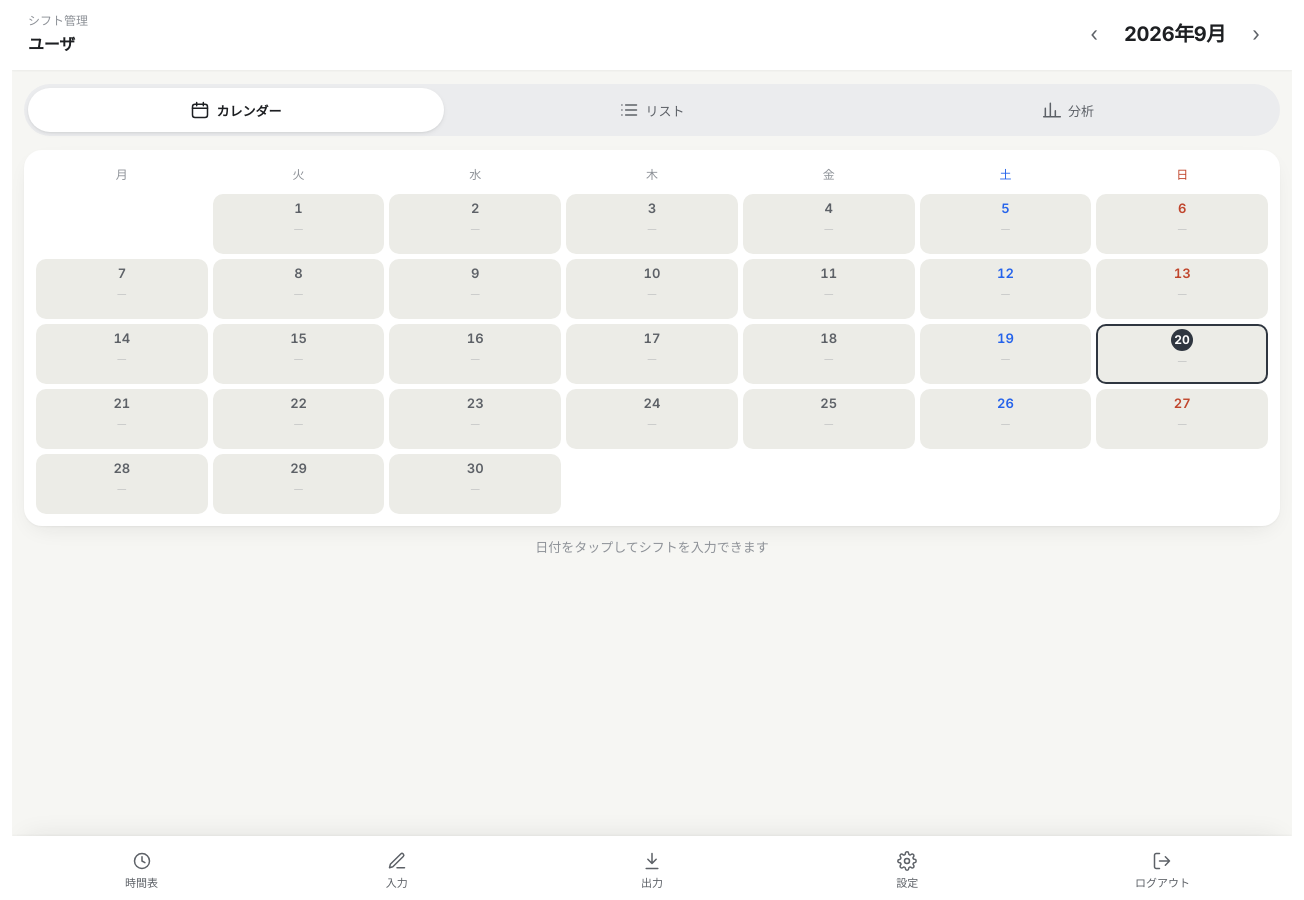
App コンポーネント › 一括保存が失敗した場合にUIがロールバックされる
Click the button with aria-label "入力モード開始": (397, 868) x1=269 y1=840 x2=524 y2=896
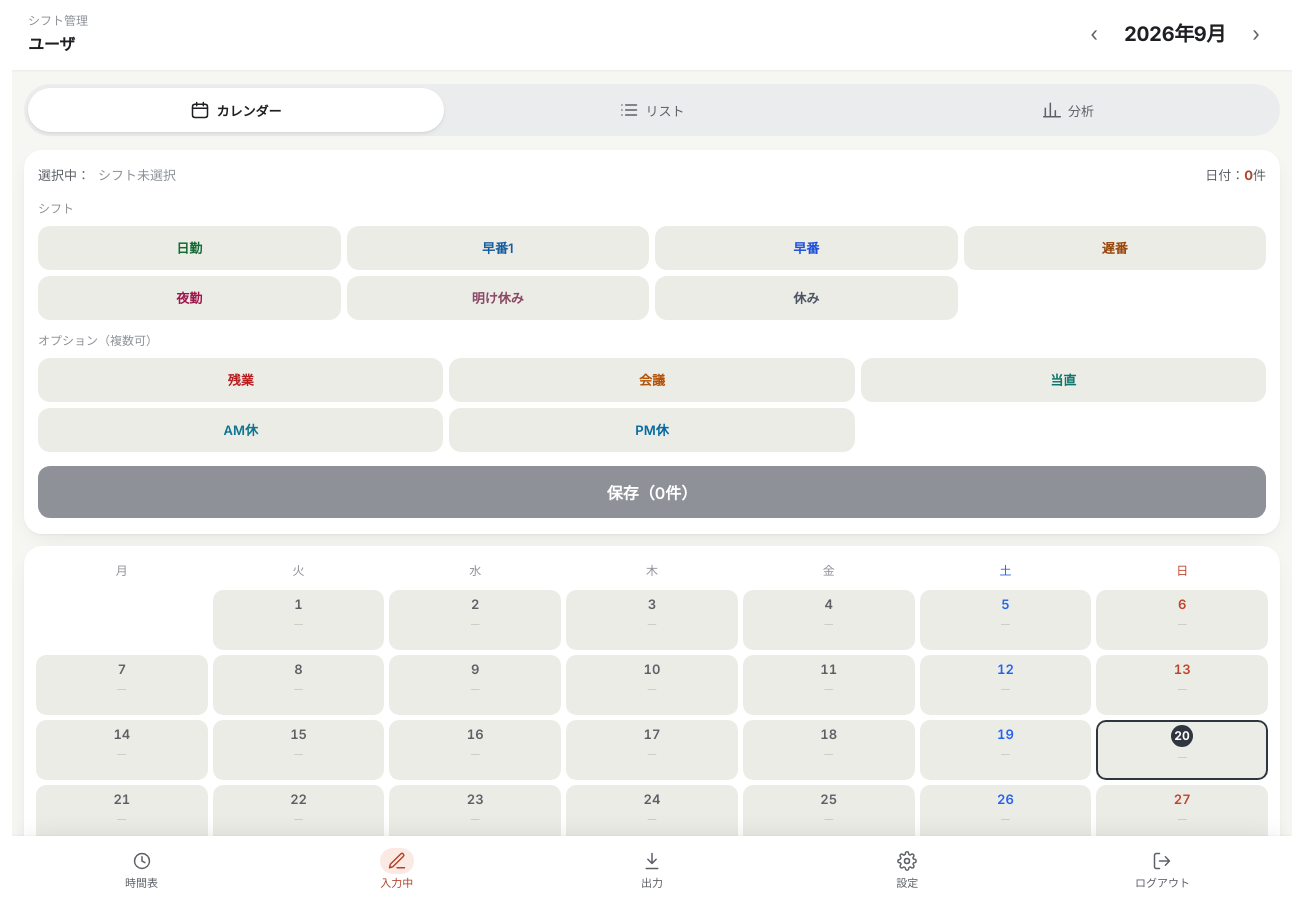
Expected: the element with test id "shift-input-panel" is shown, x1=24 y1=150 x2=1280 y2=534
Click the button "早番": (806, 248) x1=655 y1=226 x2=958 y2=270
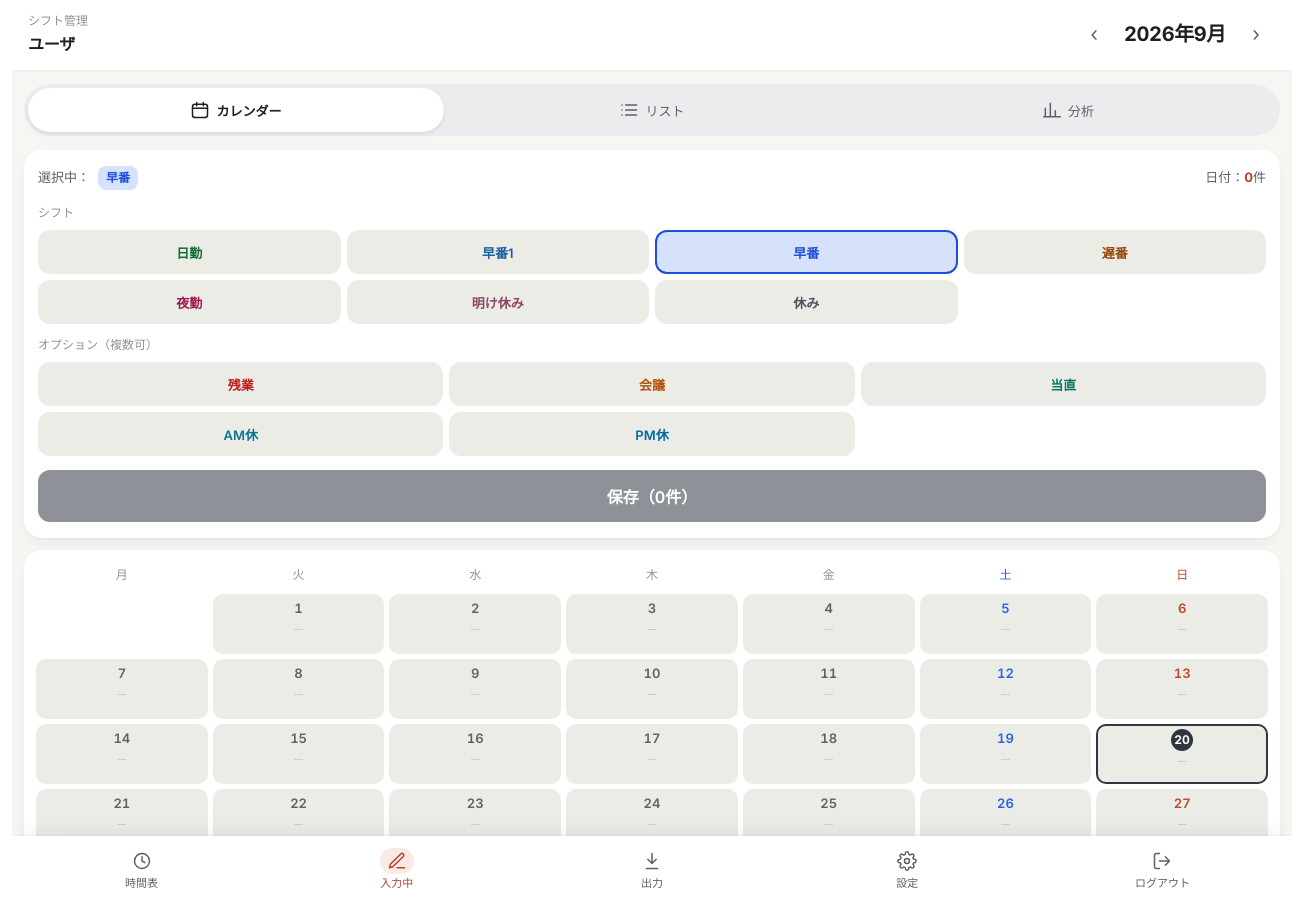
Click the element with class "calendar-cell" showing "1 －": (299, 624) x1=213 y1=594 x2=384 y2=654
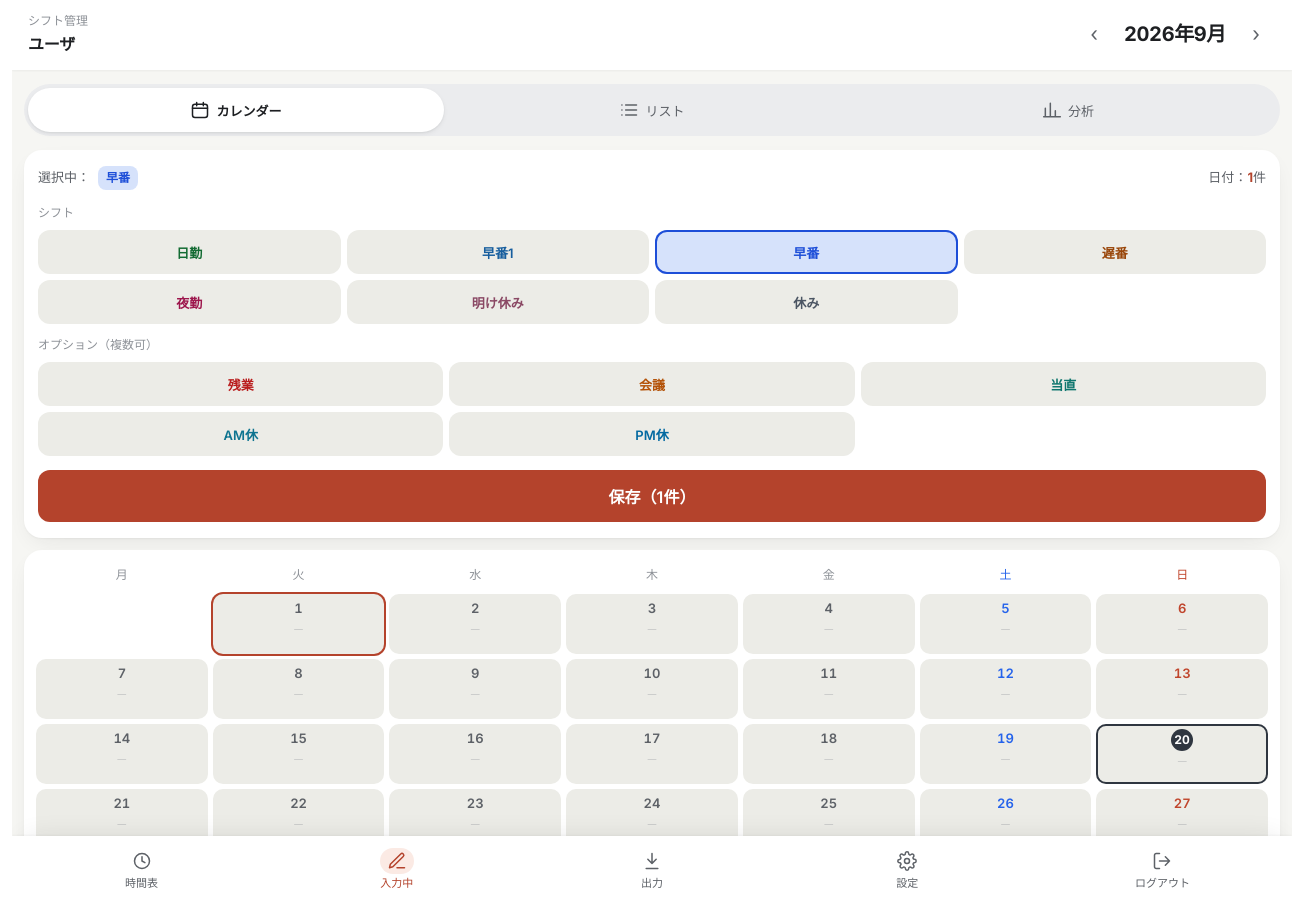
Click the button "保存（1件）": (652, 496) x1=38 y1=470 x2=1266 y2=522
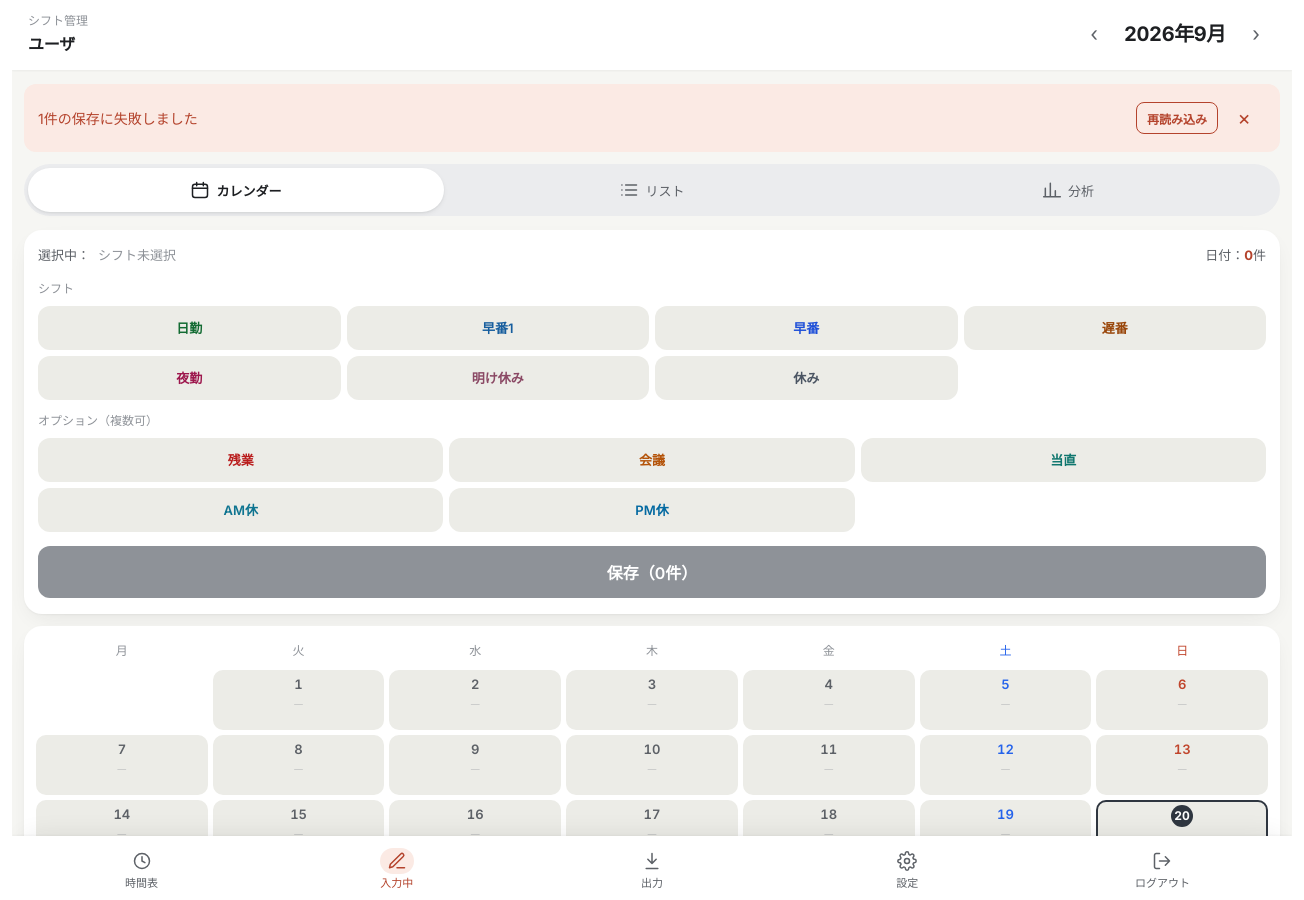
Expected: the text "1件の保存に失敗しました" is shown, x1=38 y1=108 x2=198 y2=128
